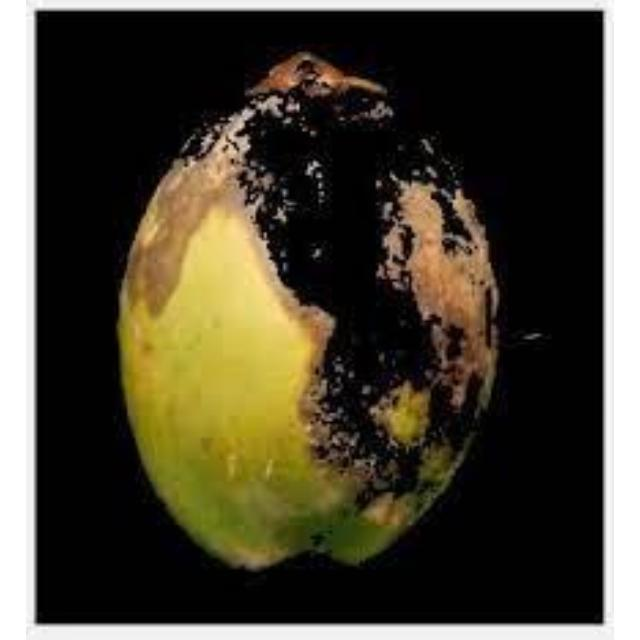damaged: (119, 52, 496, 566)
